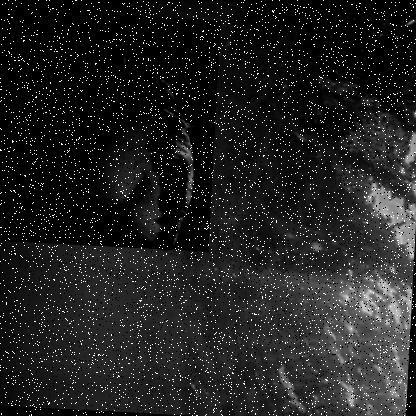white-shark: (0, 9, 220, 253)
